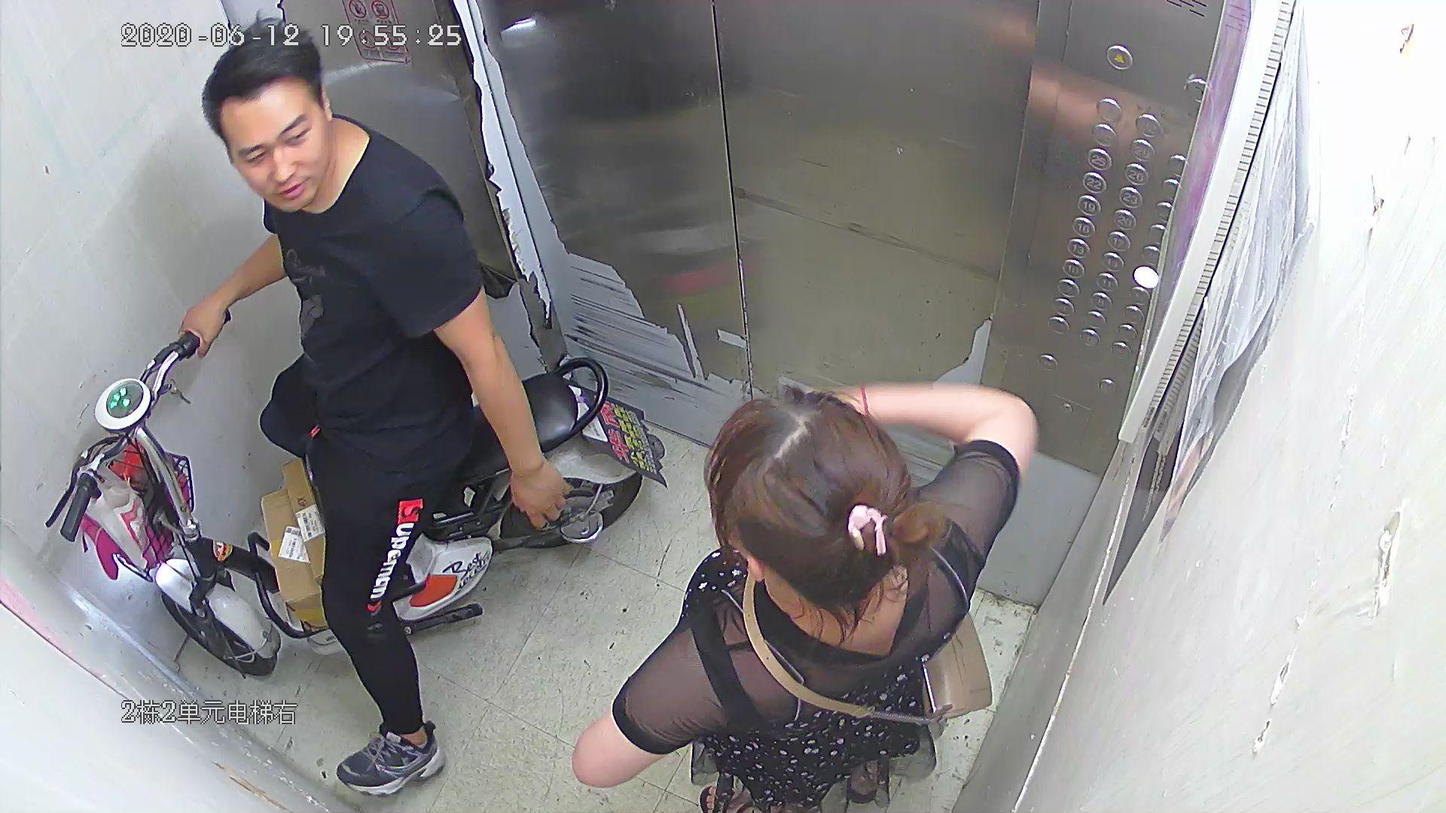Electric-bicycle: (53, 298, 625, 670)
